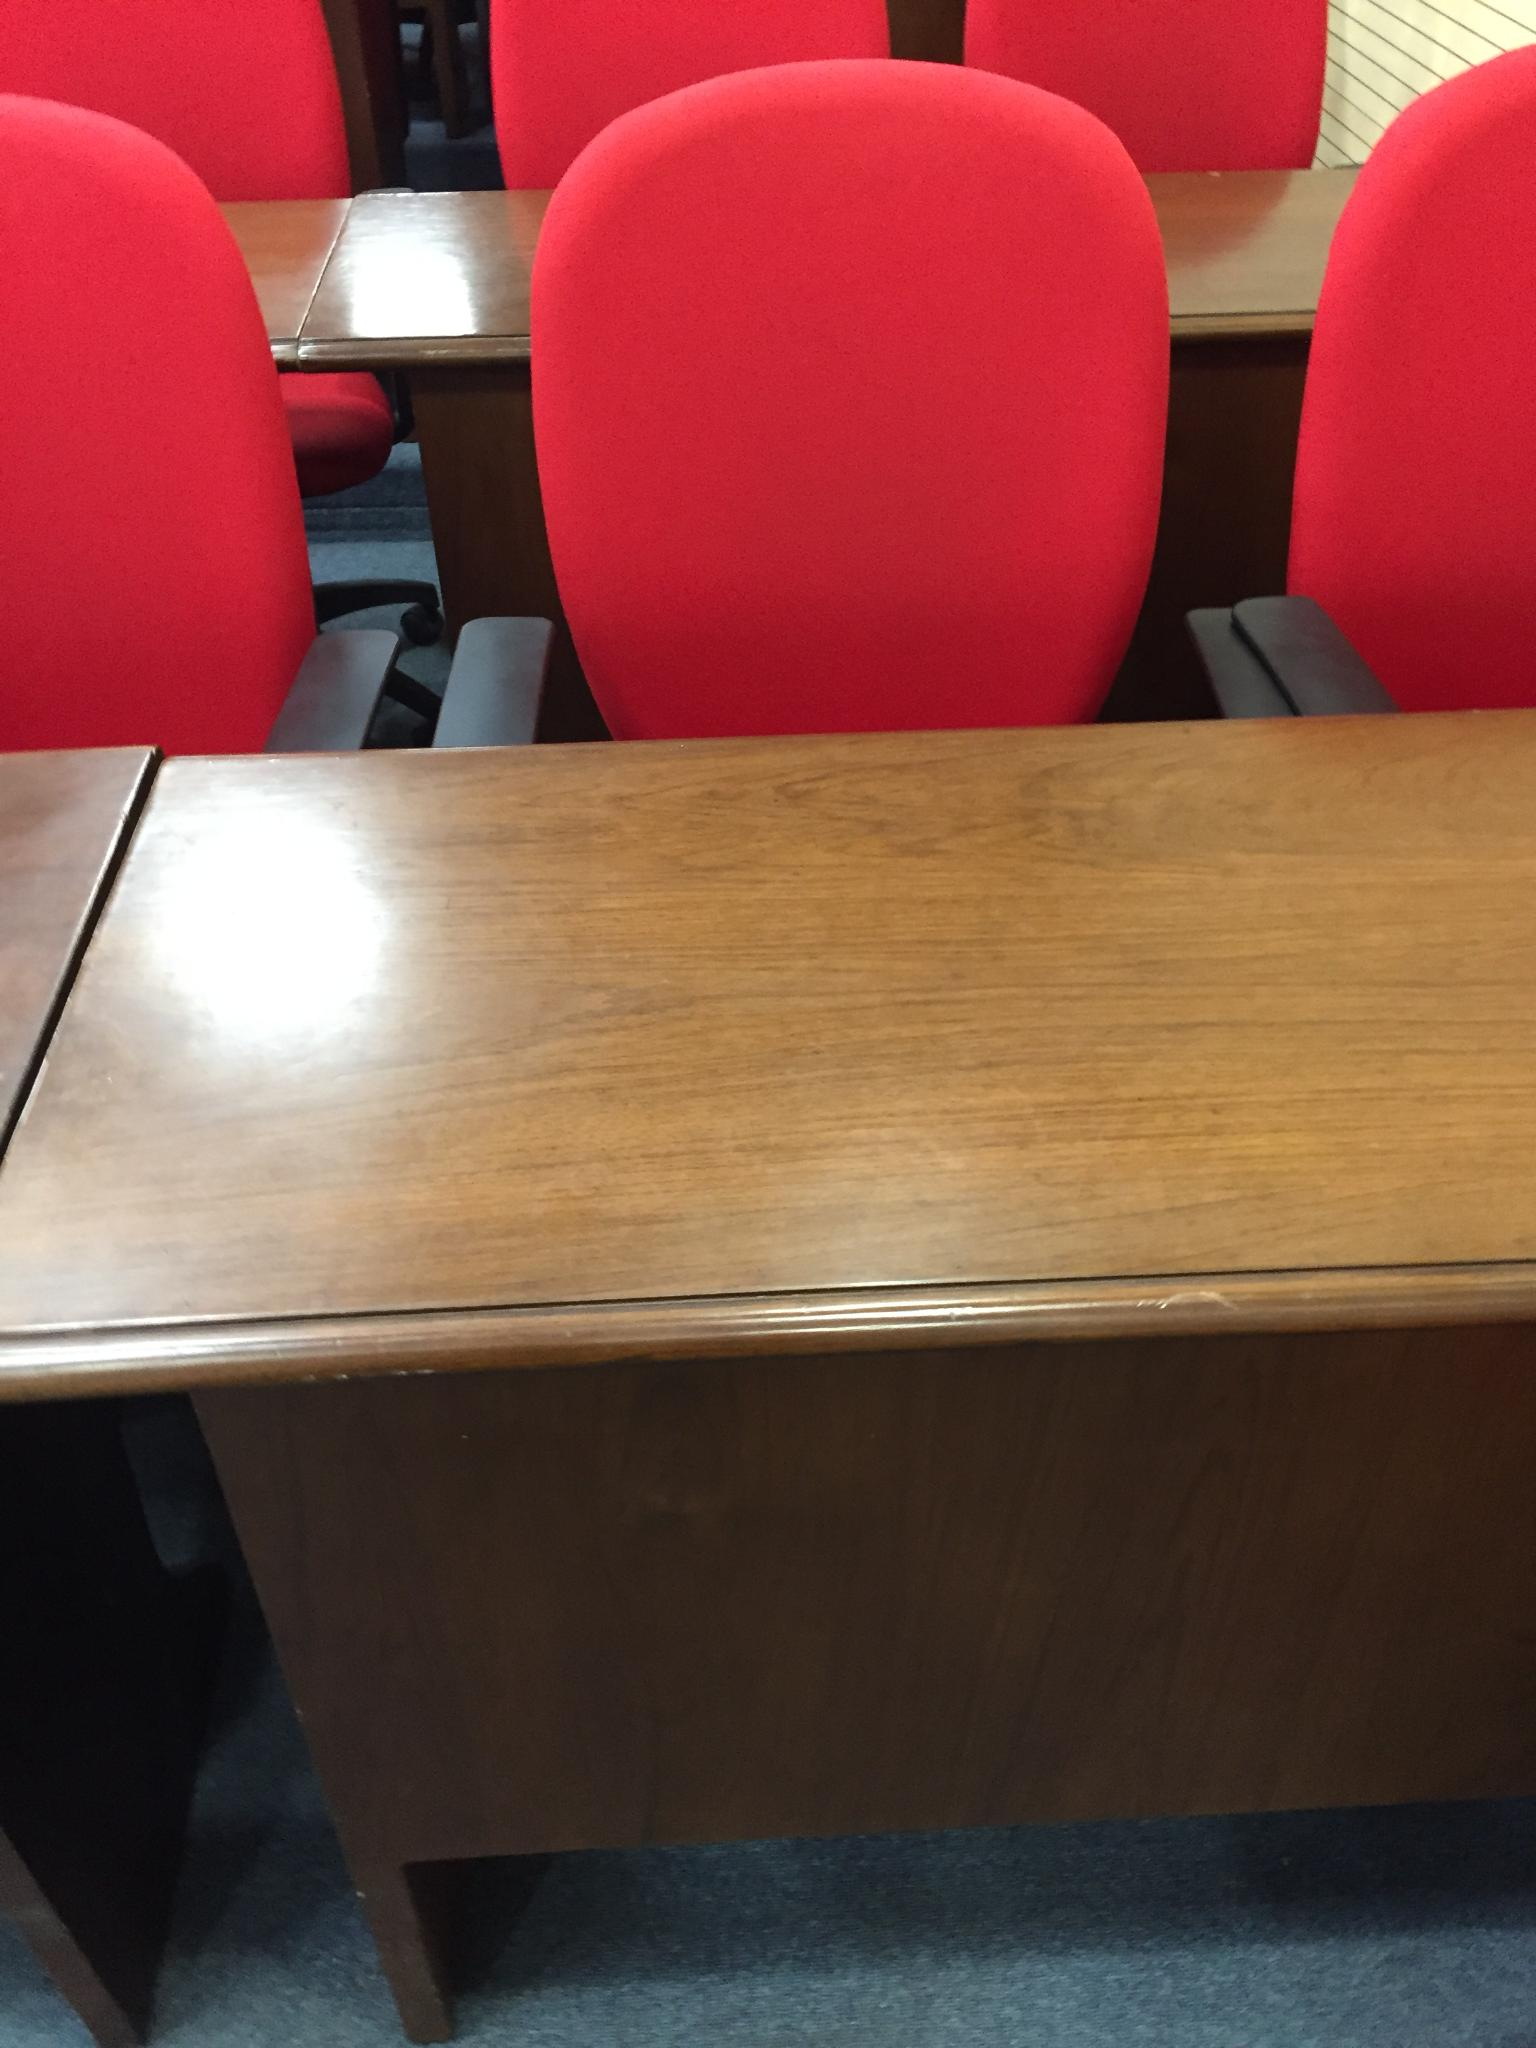chair: (524, 55, 1171, 740), (0, 135, 445, 866), (1184, 42, 1533, 718), (0, 0, 403, 500), (484, 0, 892, 190), (962, 0, 1329, 174)
